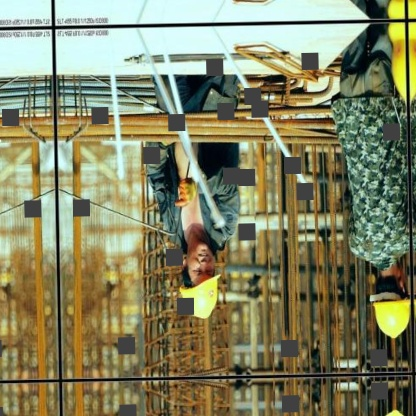yellow: (172, 270, 225, 320), (364, 292, 411, 343)
